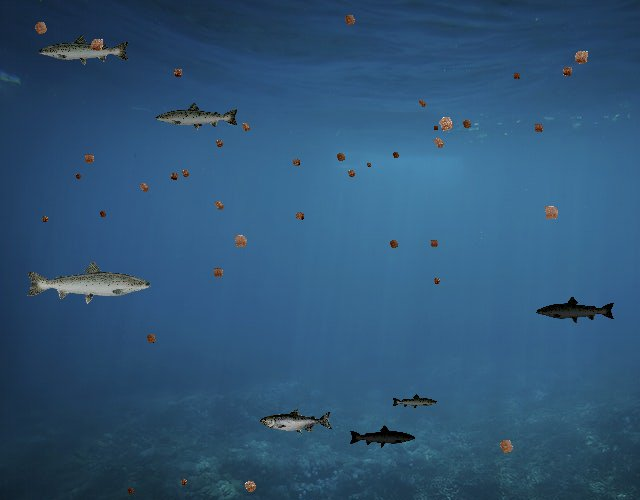Fish: (24, 259, 153, 305), (37, 33, 131, 67), (154, 101, 240, 132), (536, 296, 617, 325), (260, 409, 333, 435), (349, 424, 417, 449), (392, 393, 439, 410)
Pellet: (567, 43, 595, 71), (238, 474, 263, 499), (457, 115, 476, 134), (343, 166, 360, 183), (176, 475, 191, 490), (429, 274, 444, 288), (124, 484, 138, 498), (38, 212, 52, 226)
